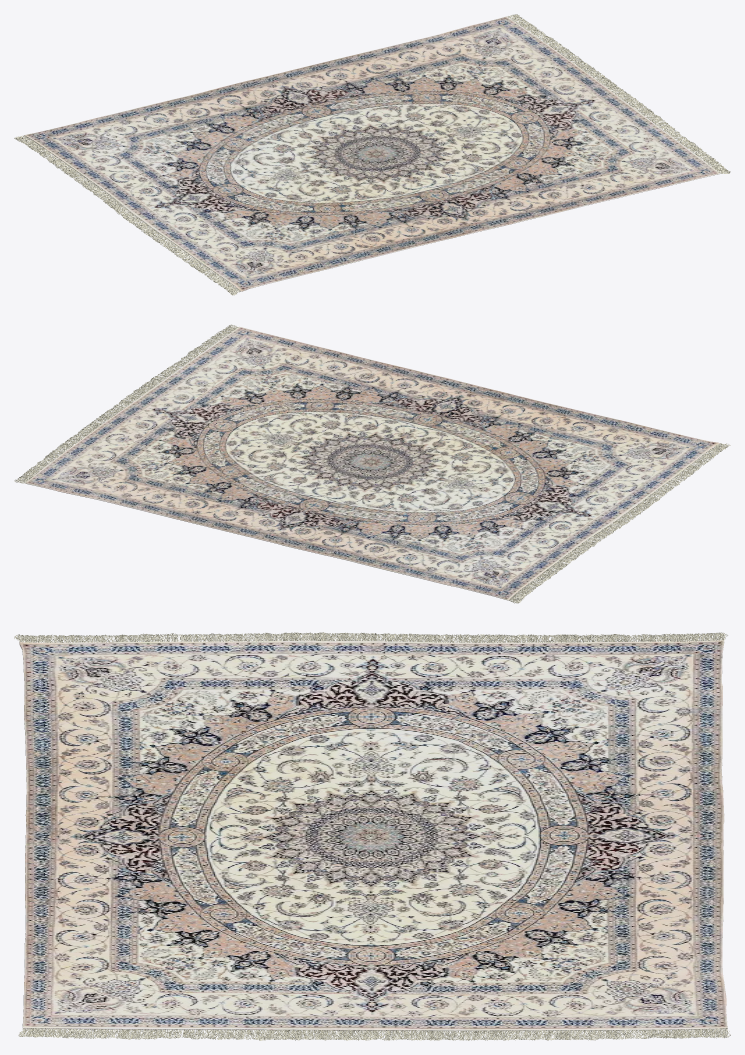
Rendered from persian_nain_carpet.glb.
3 views of the same model, one above another, from view 1: azimuth 30°, elevation 25°; view 2: azimuth 150°, elevation 25°; view 3: azimuth 270°, elevation 25° (orthographic). The views are drawn at different scales.
Visible parts, largest first — view 1: Object_4, Object_6; view 2: Object_4, Object_6; view 3: Object_4, Object_6.
Boxes of the visible parts, box(x1,y1,x2,y2) form: Object_4: box(24, 16, 719, 291); Object_6: box(14, 14, 730, 295); Object_4: box(25, 326, 719, 600); Object_6: box(14, 324, 730, 603); Object_4: box(19, 640, 727, 1030); Object_6: box(14, 632, 730, 1040).
Size of the model in its own units: 4.17 by 0.0244 by 3.1.
2 materials, 1 textured.
